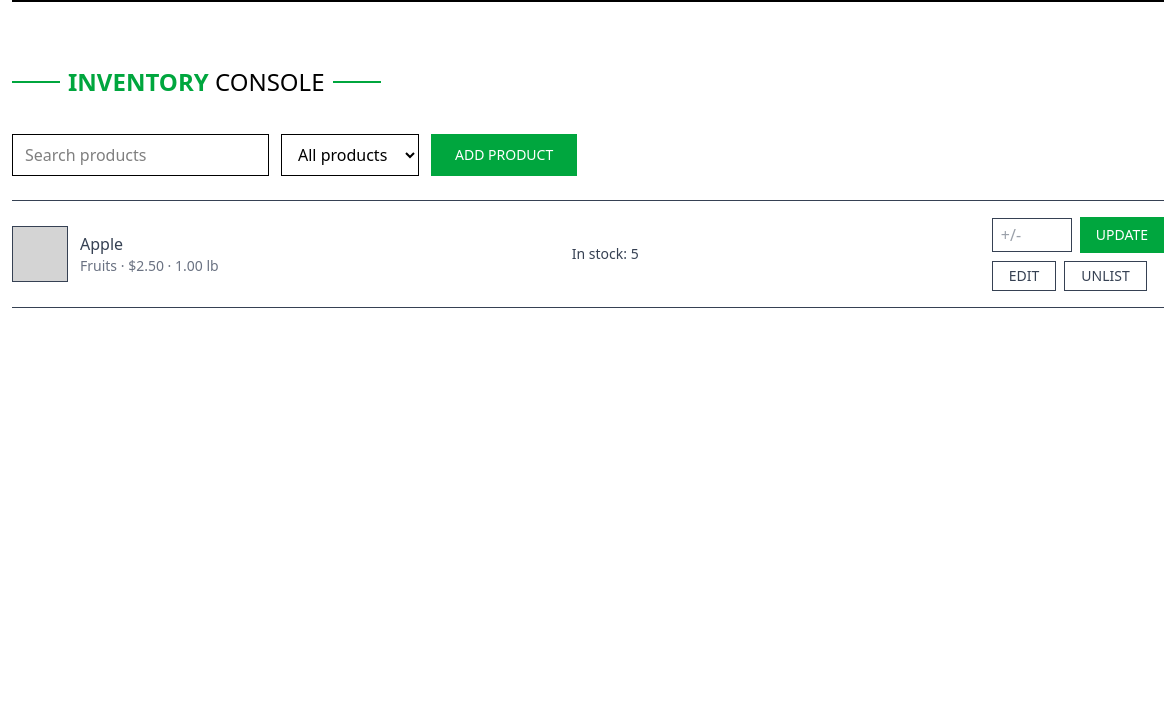
Test: Inventory › edits a product price and weight
This screenshot has width=1176, height=720.
Expected: the text "Apple" is shown, [80,233,123,255]
Click the button "EDIT".
click(1024, 276)  # box [992,261,1056,291]
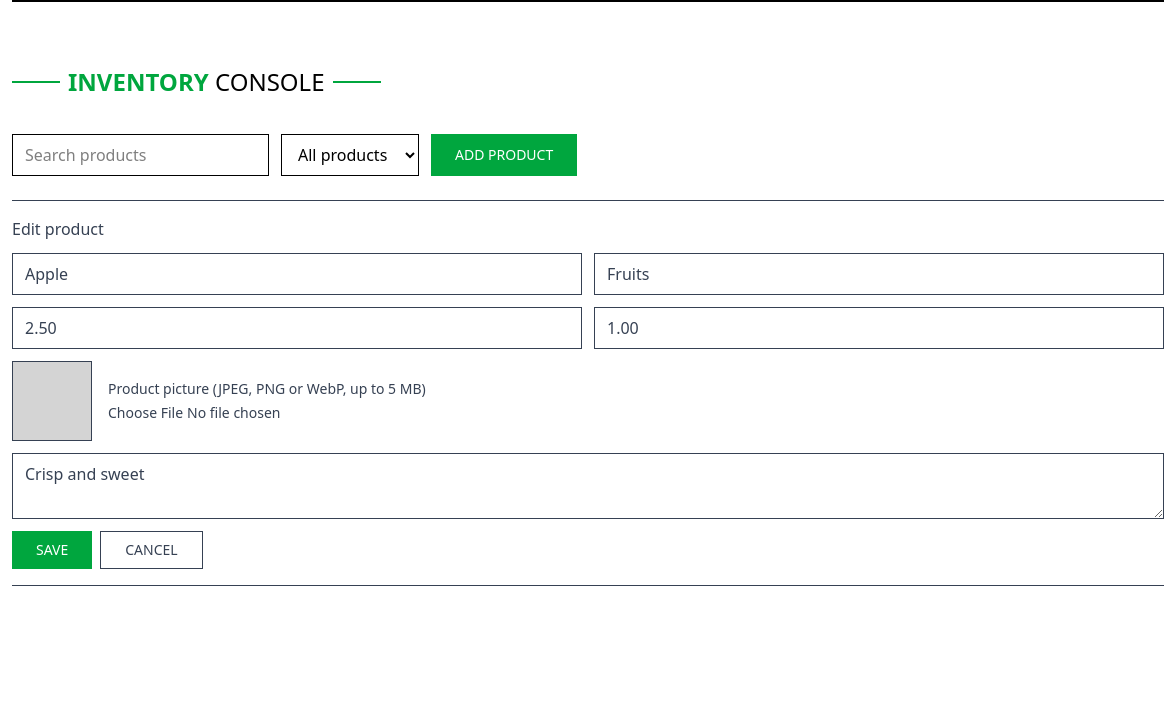
Replace the text in the number field named "Price" with "2.75" at [297, 328], box [12,307,582,349]
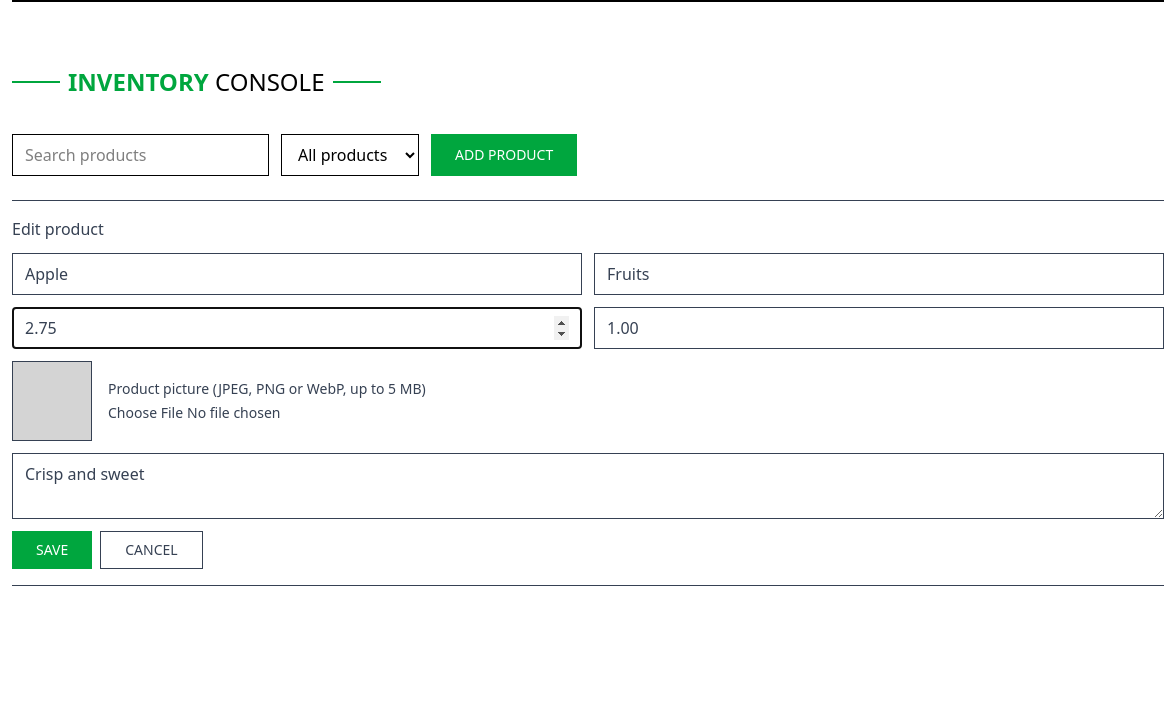
Replace the text in the number field named "Weight in lb" with "1.25" at [879, 328], box [594,307,1164,349]
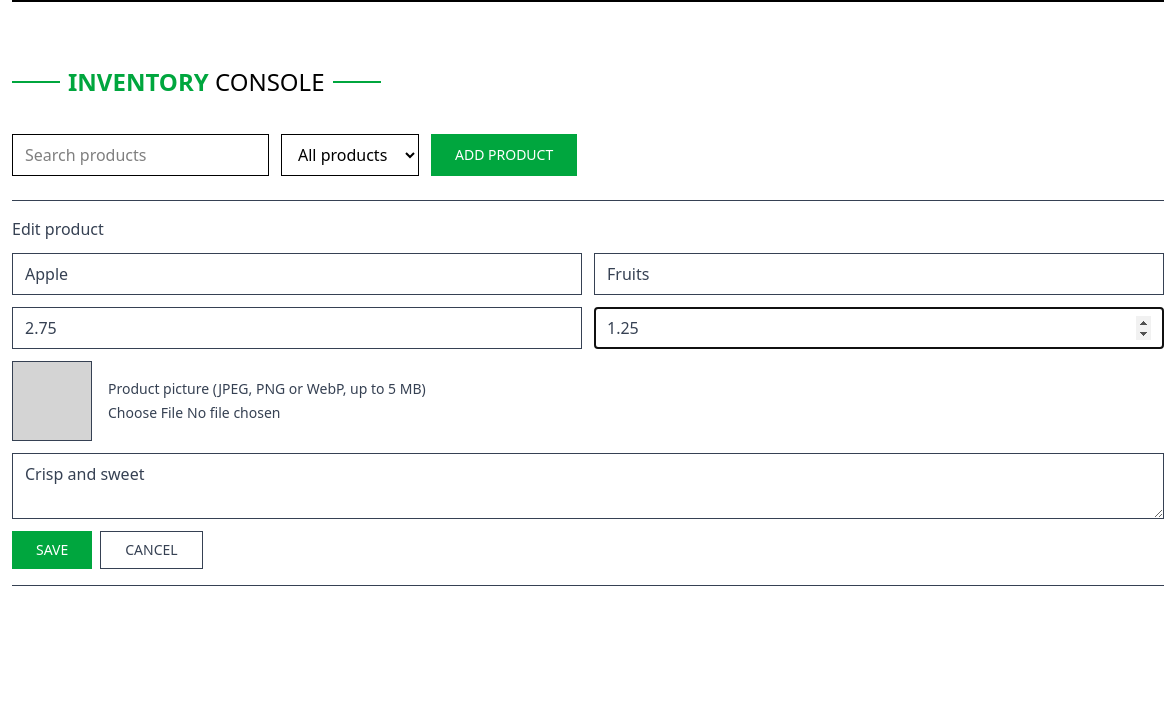
Click the button "SAVE".
click(52, 550)  # box [12,531,92,569]
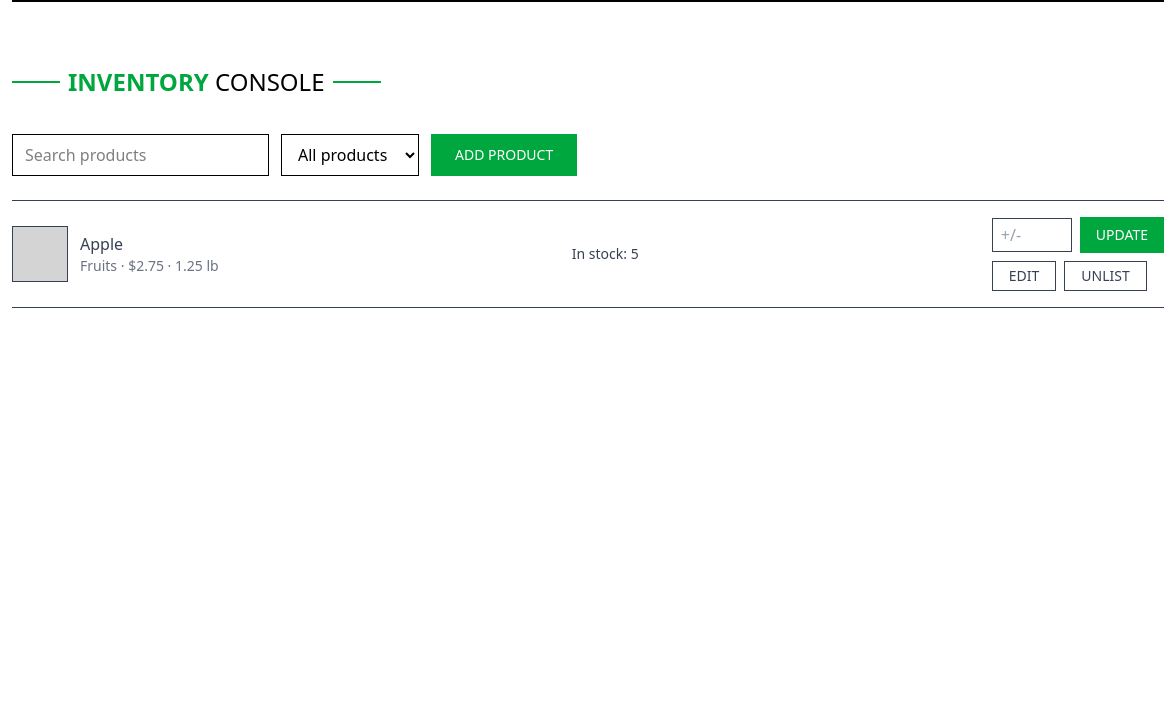
Expected: the text "Fruits · $2.75 · 1.25 lb" is shown, [80,256,219,276]
